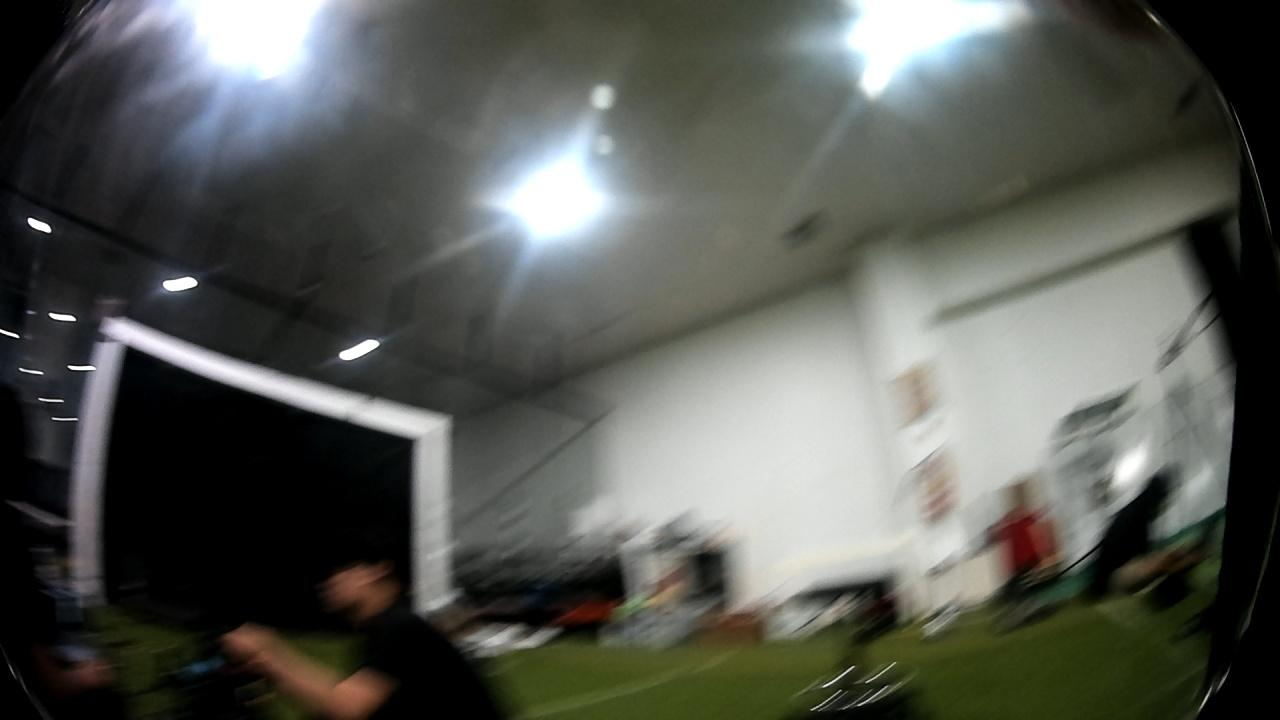ball: (914, 598, 961, 645)
